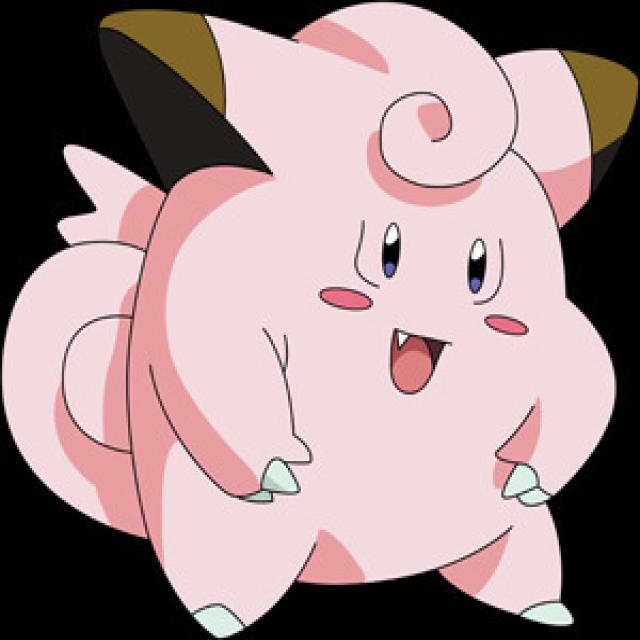Clefairy: (14, 2, 629, 639)
